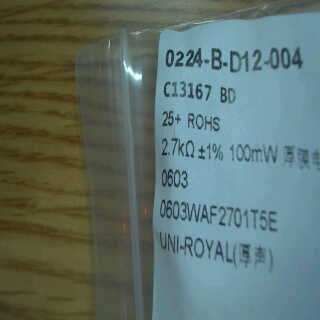2.7kR: (154, 136, 198, 164)
